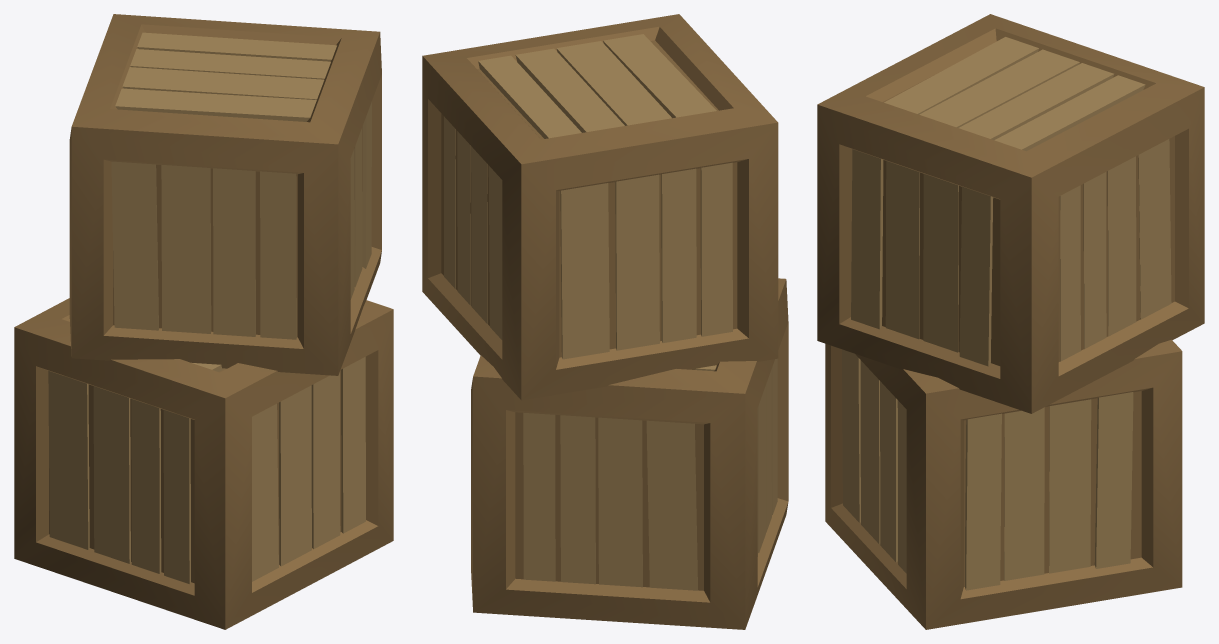
File: Crate_Big_Stack2.glb
3 renders of one model, left to right at view 1: azimuth 30°, elevation 25°; view 2: azimuth 150°, elevation 25°; view 3: azimuth 270°, elevation 25°, orthographic. The views are drawn at different scales.
Visible parts, largest first — view 1: Crate_Big_Stack2; view 2: Crate_Big_Stack2; view 3: Crate_Big_Stack2.
Boxes of the visible parts, x1=… form: Crate_Big_Stack2: x1=14, y1=14, x2=393, y2=629; Crate_Big_Stack2: x1=422, y1=14, x2=788, y2=629; Crate_Big_Stack2: x1=817, y1=14, x2=1204, y2=629.
Size of the model in its own units: 0.2474 by 0.3281 by 0.2383.
